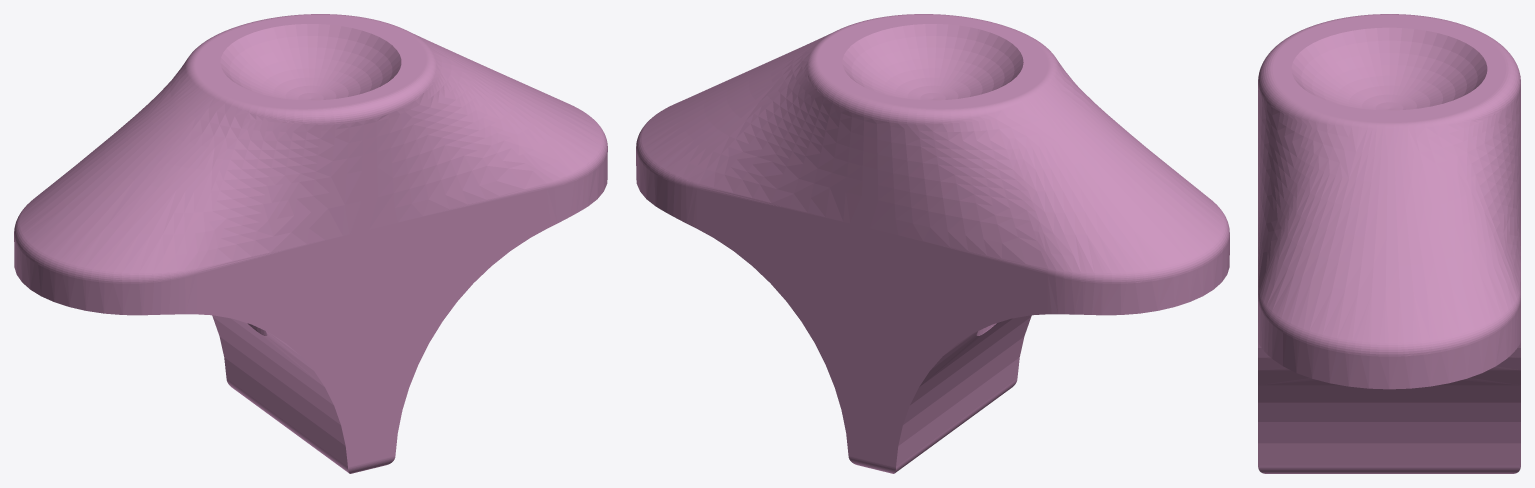
Rendered from case-04_lib00002.glb.
The picture shows the model from 3 angles, left to right: view 1: azimuth 30°, elevation 25°; view 2: azimuth 150°, elevation 25°; view 3: azimuth 270°, elevation 25°; orthographic projection. The views are drawn at different scales.
Visible parts, largest first — view 1: lib00002; view 2: lib00002; view 3: lib00002.
Part boxes in pixels (x1,y1,x2,y2): lib00002: (14, 14, 607, 473); lib00002: (636, 14, 1229, 473); lib00002: (1258, 14, 1520, 473).
Bounding box in the file's own units: 78 × 48.75 × 29.25.
